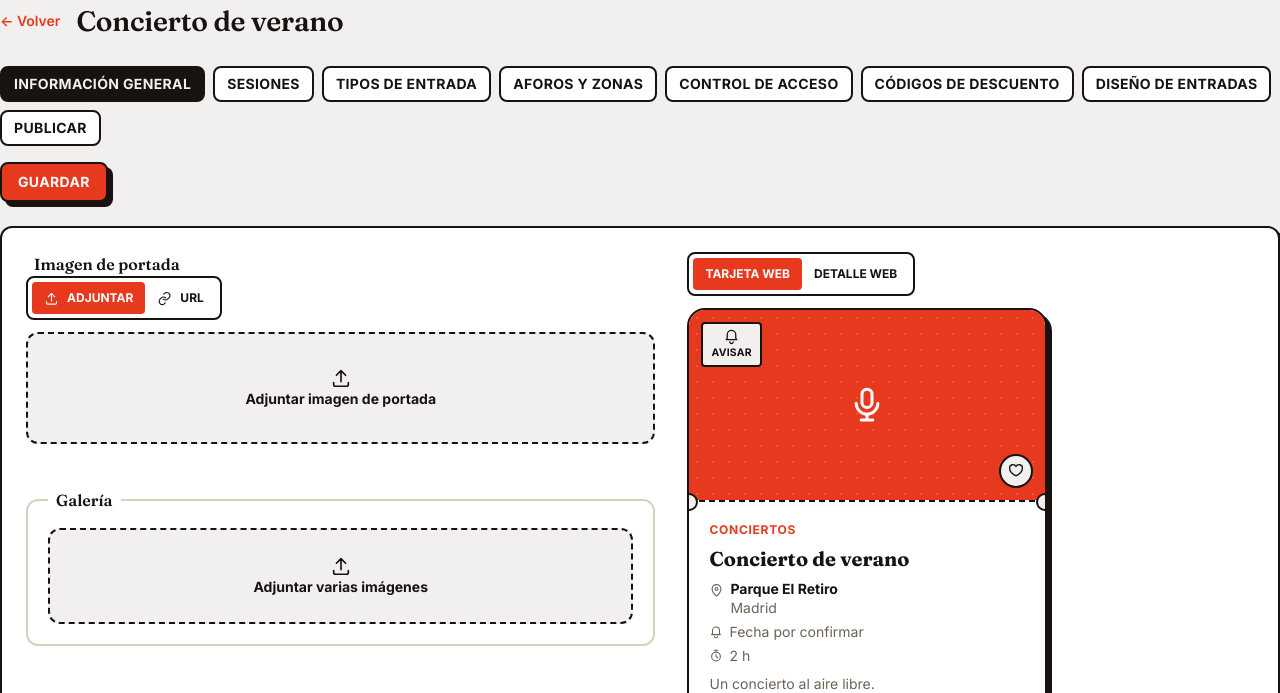
Scenario: EventDetailPage: Guardar al lado de las secciones › completo, confirma y guarda la informacion general
Click the button "Guardar" at coordinates (54, 182), box x1=0 y1=162 x2=108 y2=202
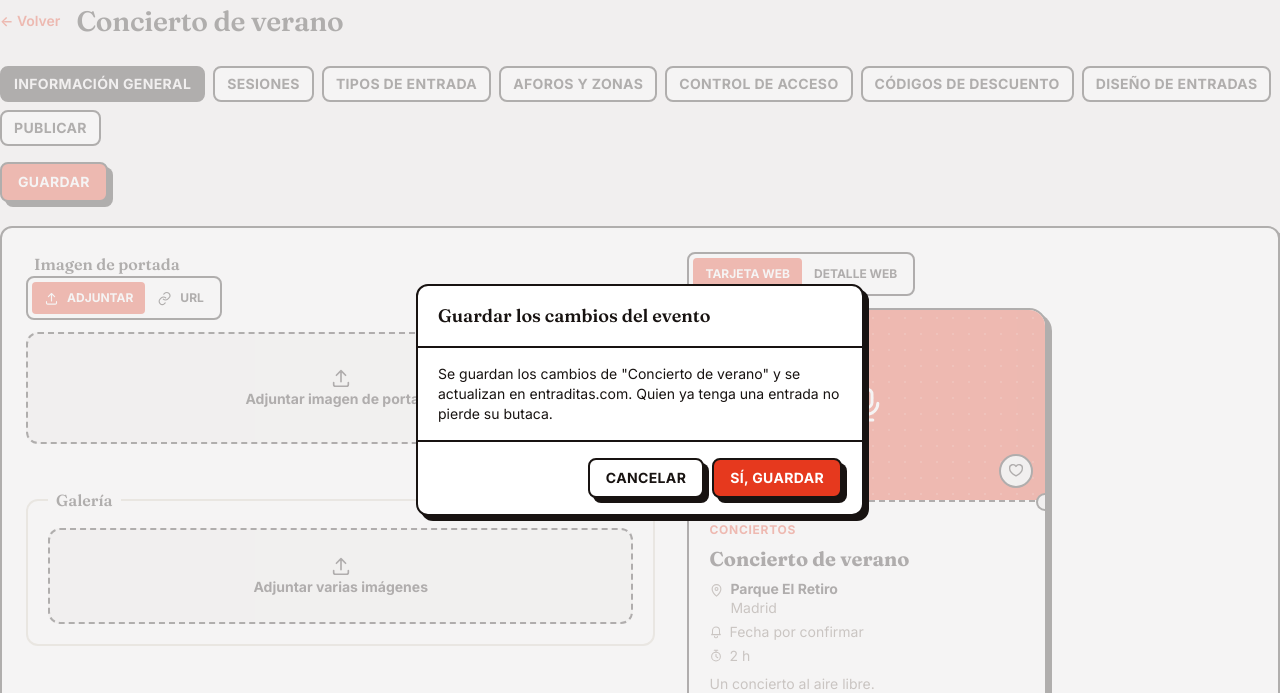
Click the button "Sí, guardar" at coordinates (777, 478), box x1=712 y1=458 x2=842 y2=498
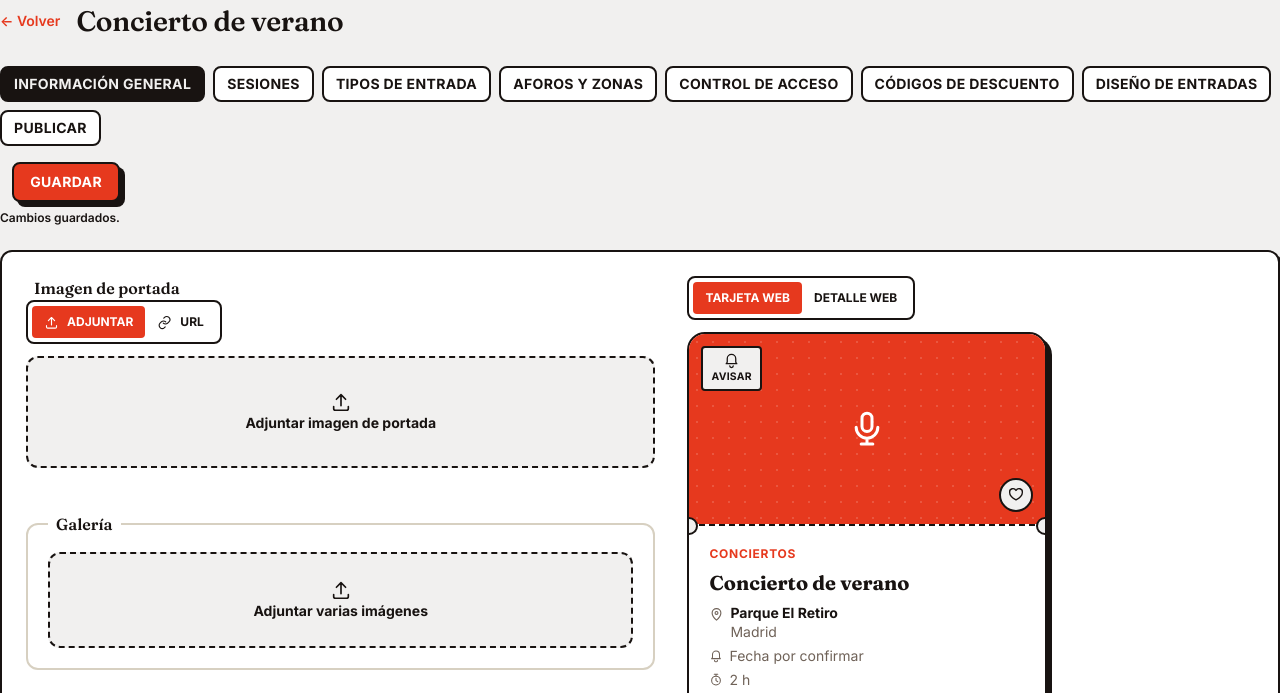
Result: the message shows "Cambios guardados" at x1=0 y1=210 x2=120 y2=225
